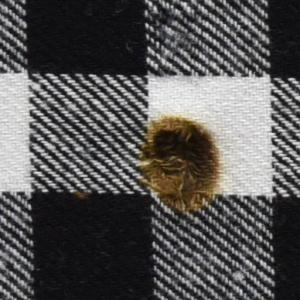Damage: (136, 112, 224, 218)
Stain: (74, 188, 93, 205)
